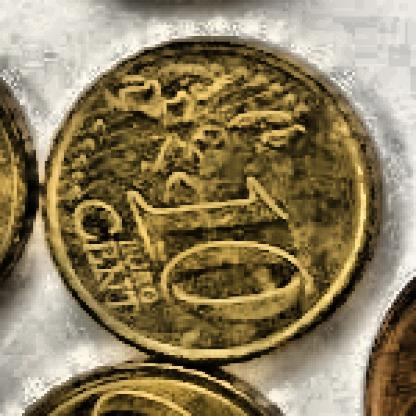coin: (41, 40, 386, 364)
